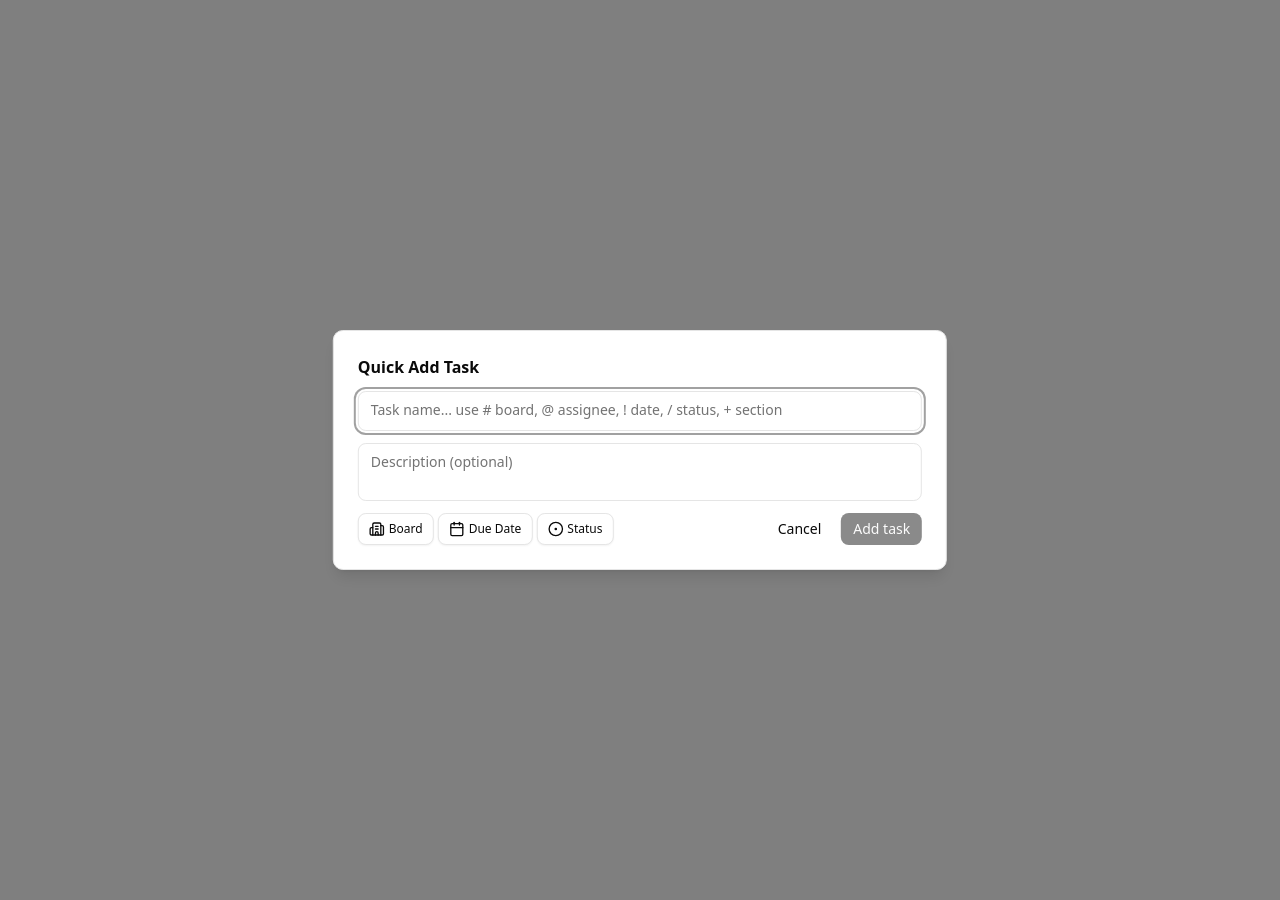
QuickAddDialog › shows the selected date label after choosing a suggestion
What coordinates should you click on to do the following:
click the button "Due Date"
I would click on:
 (485, 529)
Its box is [438,513,532,545].
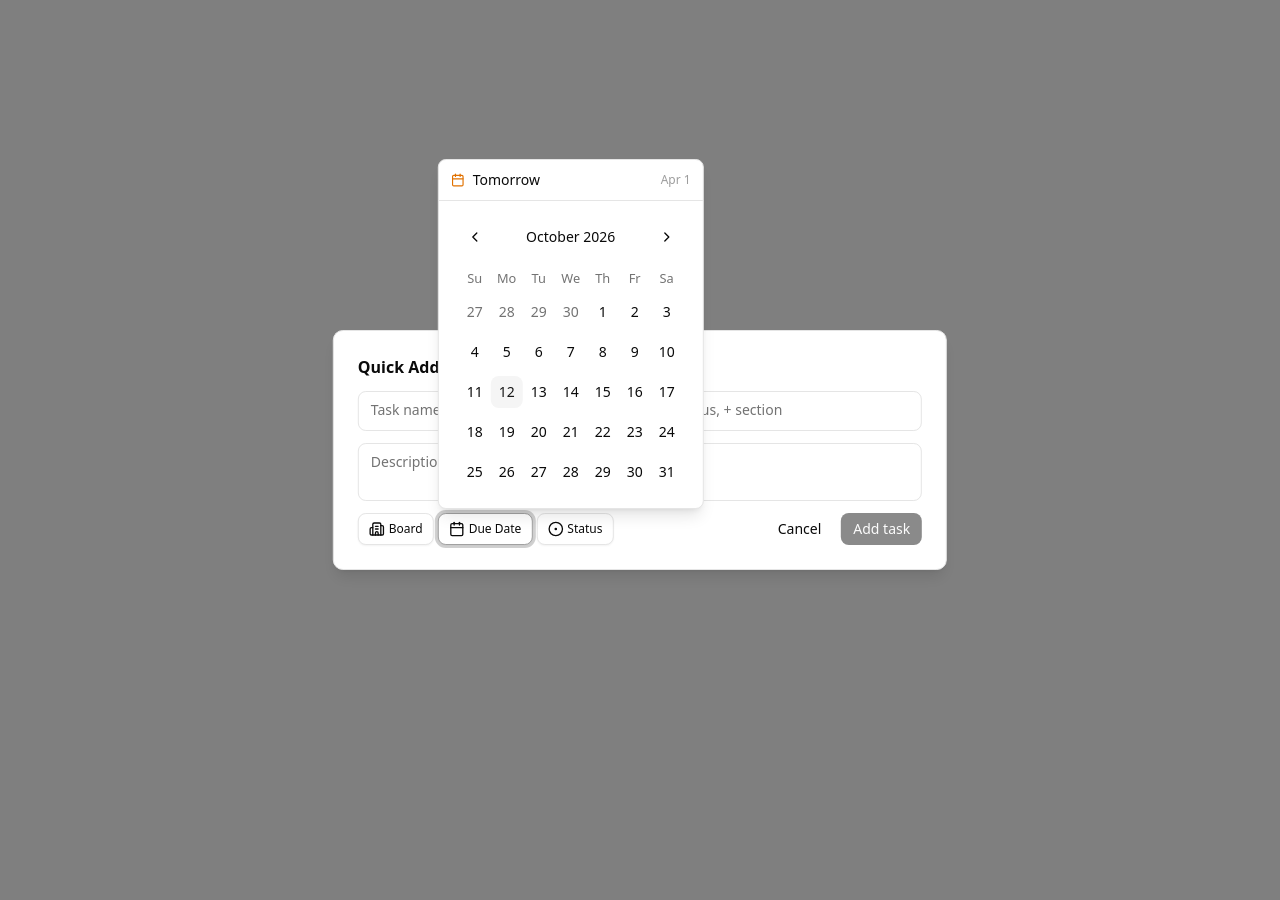
What coordinates should you click on to do the following:
click the button "Tomorrow Apr 1"
I would click on:
 (506, 179)
Its box is [439,164,703,196].
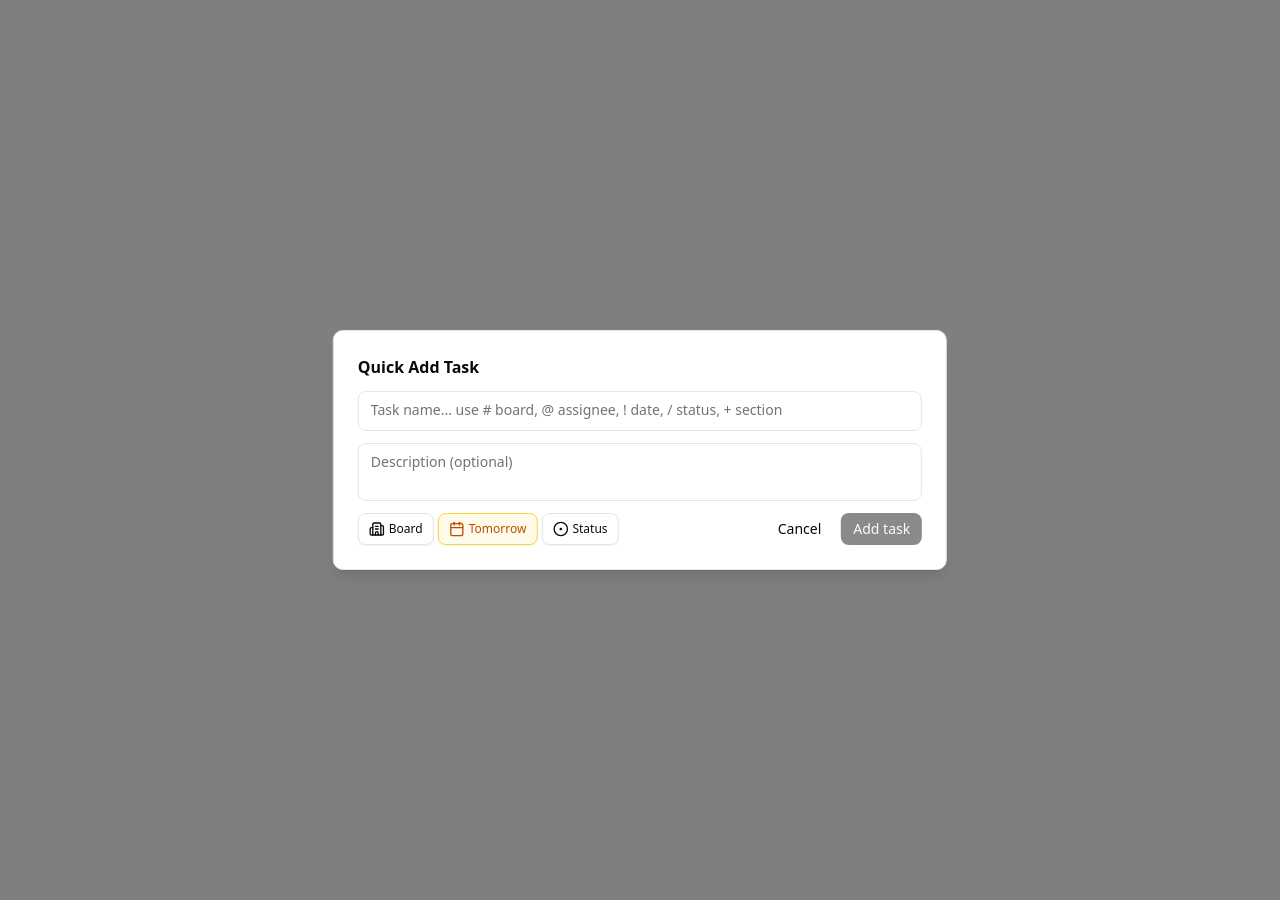
Result: the button "Tomorrow" is shown at [438,513,537,545]
Result: the button "Due Date" is gone
